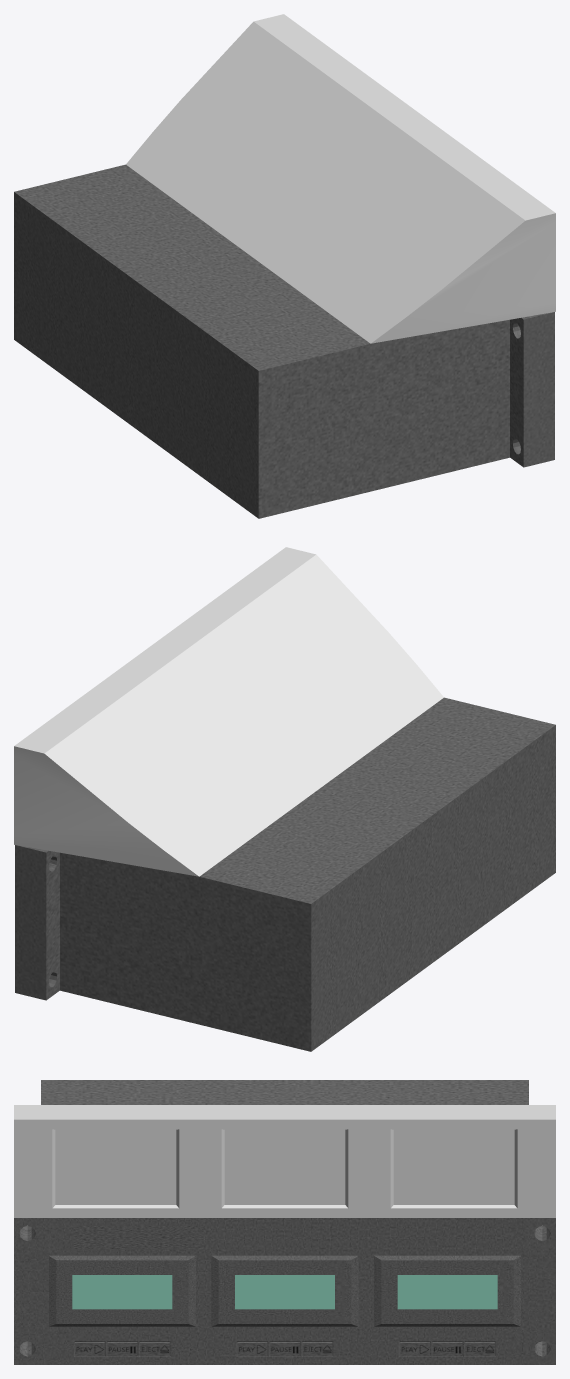
Rendered from odtwarzacz.fbx.
3 views of the same model, one above another, from view 1: azimuth 30°, elevation 25°; view 2: azimuth 150°, elevation 25°; view 3: azimuth 270°, elevation 25° (orthographic).
Parts seen in each view (by area): view 1: odtwarzacz, odtwarzacz.001; view 2: odtwarzacz, odtwarzacz.001; view 3: odtwarzacz.001, odtwarzacz, pokrywka_s, pokrywka_l, pokrywka_p, eject_s, pause_l, pause_p, play_s, eject_l, eject_p, pause_s (+2 smaller).
Boxes of the visible parts, left/top/right/bottom form: odtwarzacz: left=14, top=164, right=554, bottom=518; odtwarzacz.001: left=126, top=14, right=555, bottom=343; odtwarzacz: left=15, top=697, right=555, bottom=1051; odtwarzacz.001: left=14, top=547, right=443, bottom=876; odtwarzacz.001: left=14, top=1105, right=555, bottom=1217; odtwarzacz: left=14, top=1080, right=555, bottom=1364; pokrywka_s: left=211, top=1255, right=358, bottom=1326; pokrywka_l: left=49, top=1255, right=195, bottom=1326; pokrywka_p: left=374, top=1255, right=520, bottom=1326; eject_s: left=302, top=1343, right=332, bottom=1356; pause_l: left=107, top=1343, right=137, bottom=1356; pause_p: left=432, top=1343, right=462, bottom=1356; play_s: left=237, top=1343, right=267, bottom=1356; eject_l: left=140, top=1343, right=169, bottom=1356; eject_p: left=465, top=1343, right=494, bottom=1356; pause_s: left=270, top=1343, right=299, bottom=1356.
Bounding box in the file's own units: 9.06 × 7.5 × 15.
4 materials, 1 textured.
